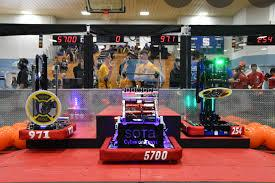robot: (99, 59, 182, 163), (184, 54, 249, 138), (18, 53, 76, 141)
